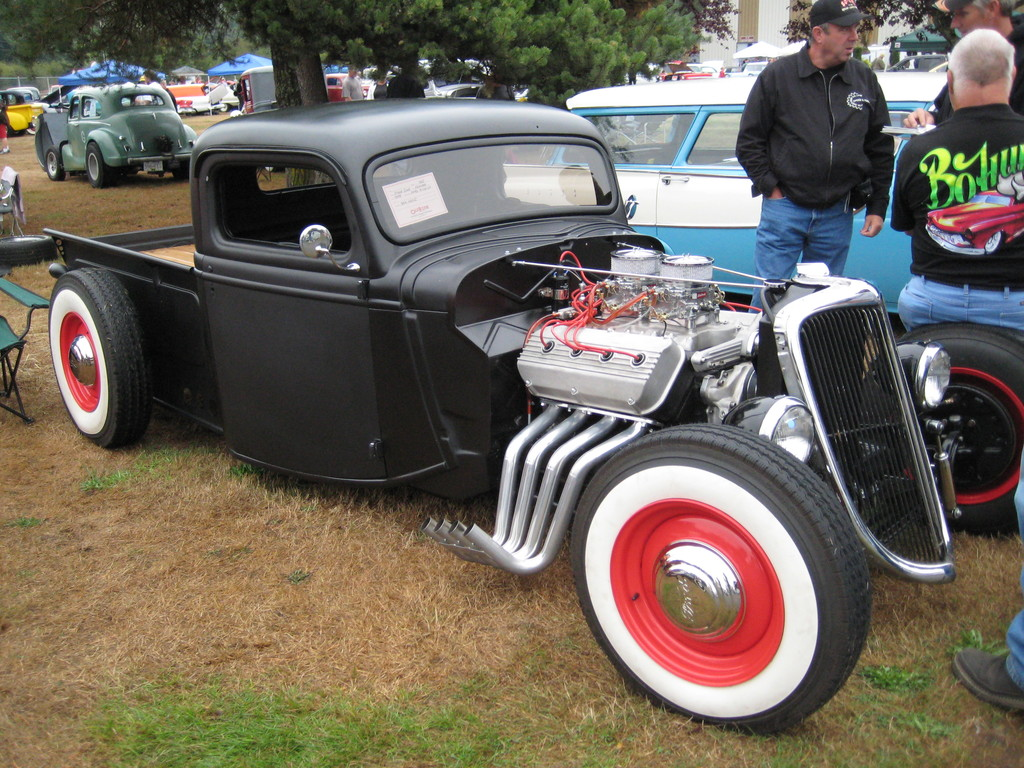Car: (39, 83, 195, 184), (0, 91, 54, 132), (325, 76, 376, 99)
